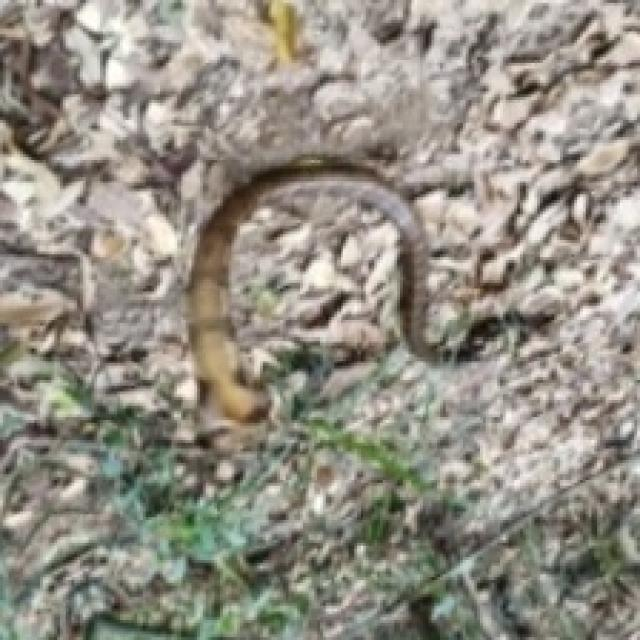king cobra: (189, 157, 434, 420)
